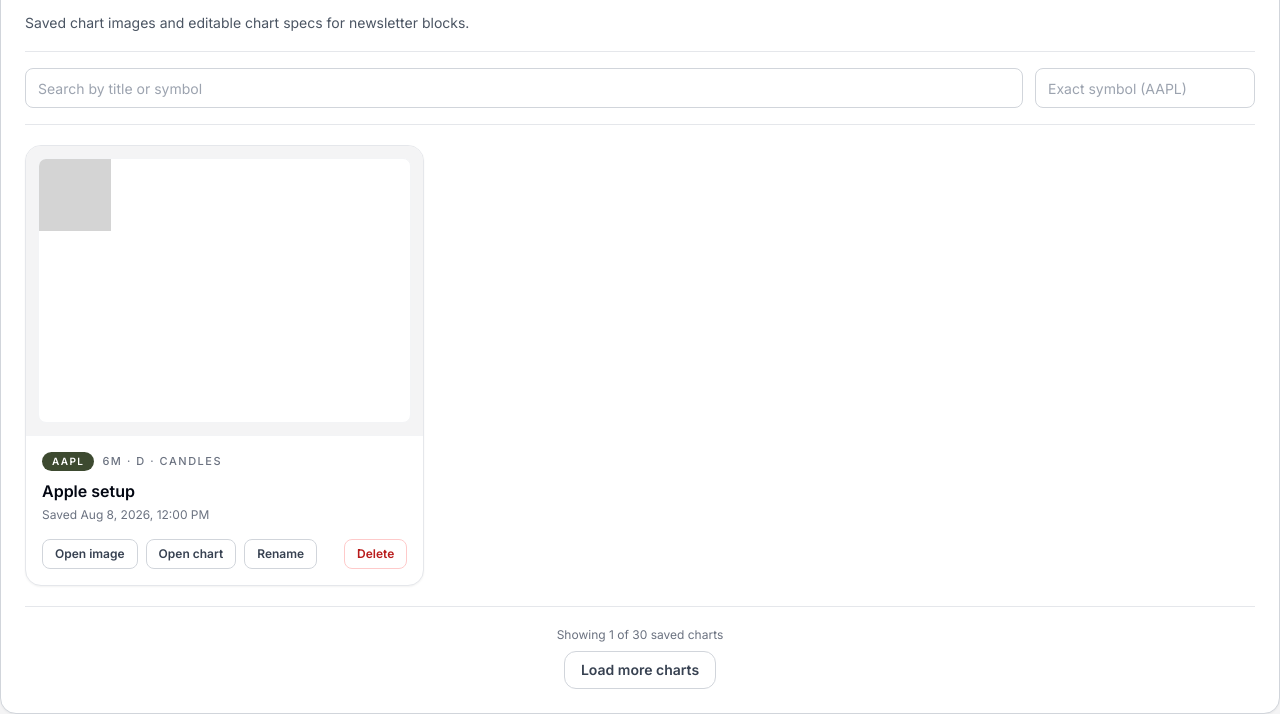
Test: newsletter chart library bounded paging › cancels a stale continuation when search resets the home query
(page scrolled)
Click the button "Load more charts": {"x": 640, "y": 670} [564,651,716,689]
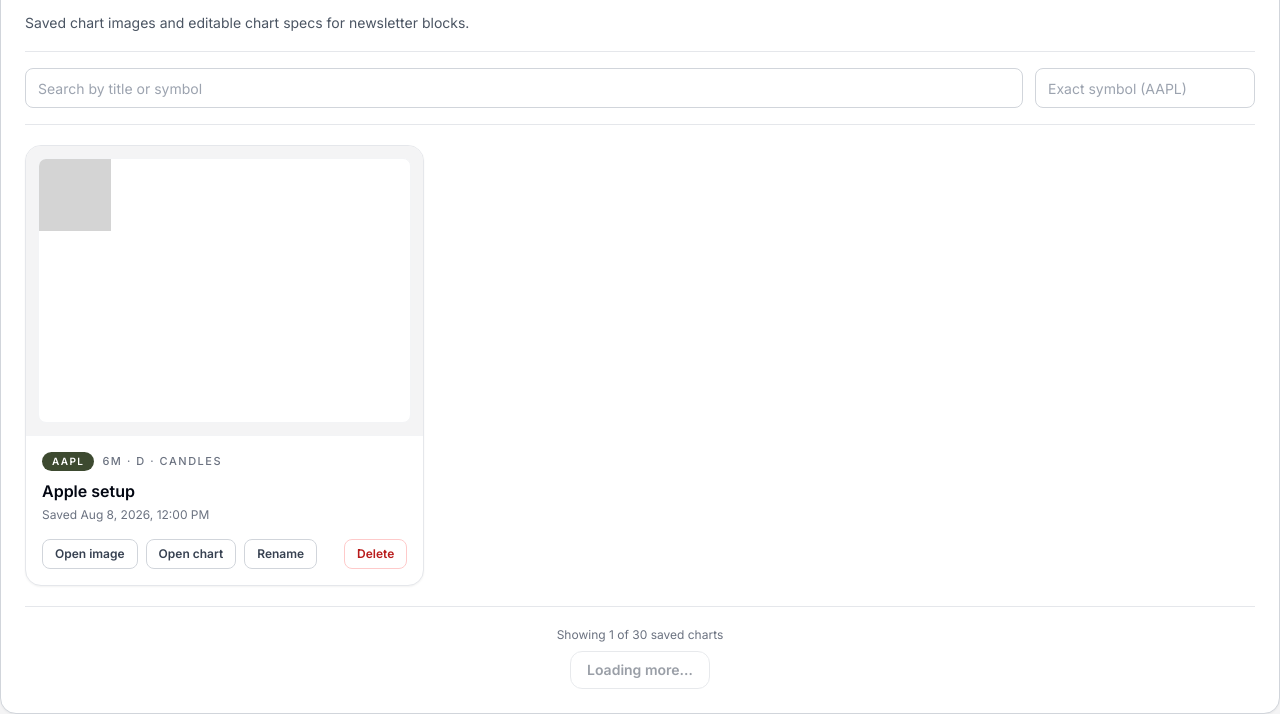
In the search field with placeholder "Search by title or symbol": {"x": 524, "y": 88} [25,68,1023,108], type "Tesla"
(page scrolled)
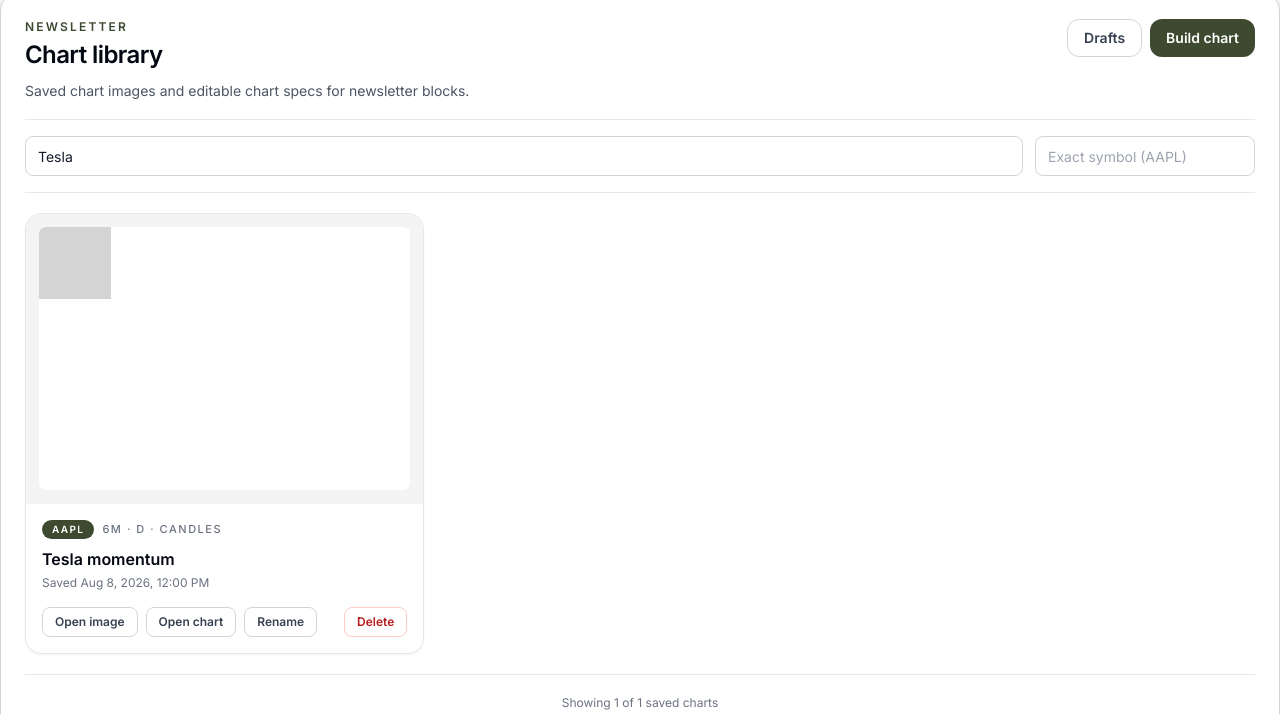
Expected: the heading "Tesla momentum" is shown, [42,549,175,569]
Expected: the heading "Apple setup" is gone
